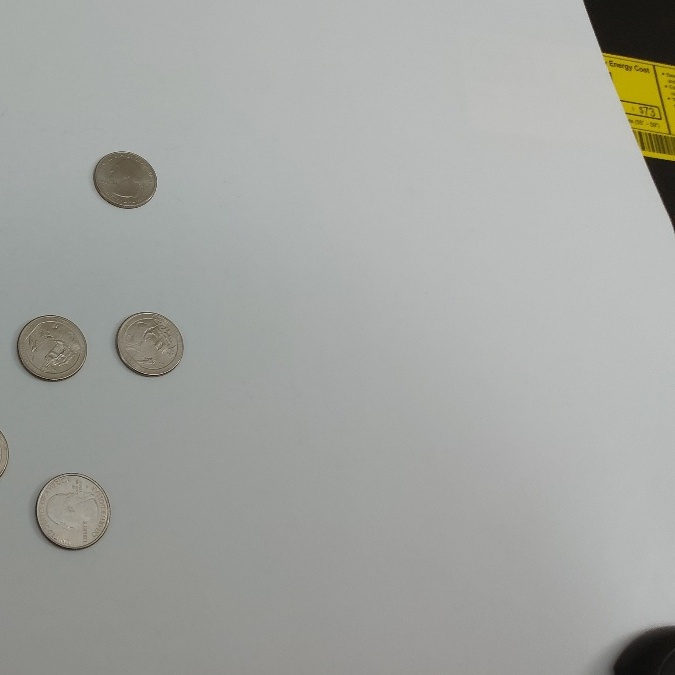coin_quarter: (31, 470, 110, 552), (11, 307, 88, 382), (87, 150, 158, 214), (116, 308, 187, 372)
